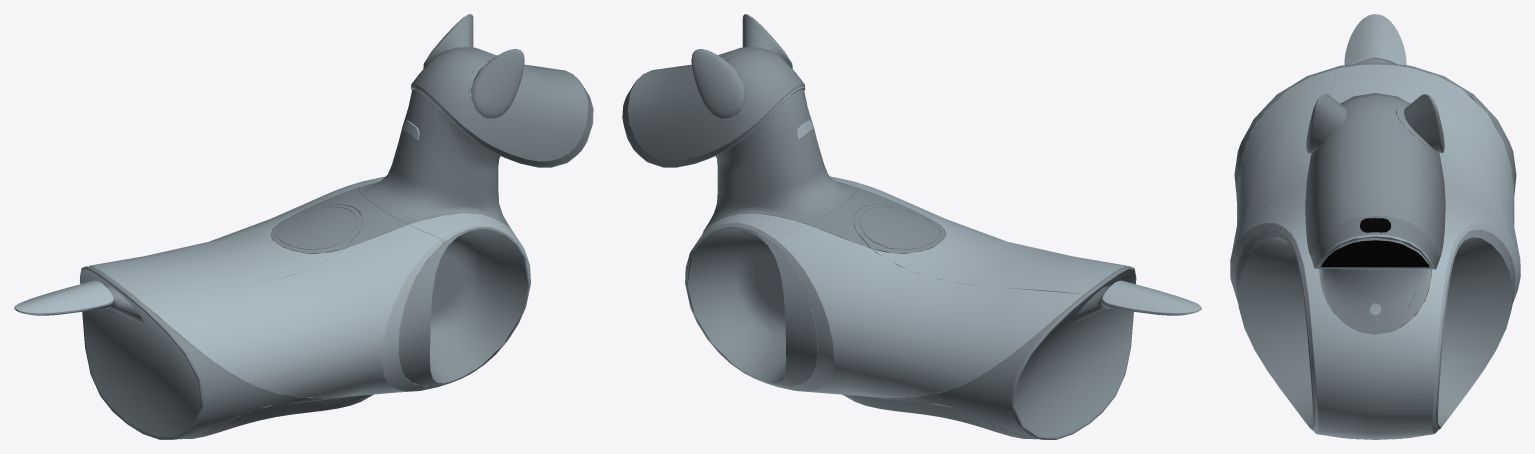
File: body.dae
3 views of the same model, side by side, from view 1: azimuth 30°, elevation 25°; view 2: azimuth 150°, elevation 25°; view 3: azimuth 270°, elevation 25° (orthographic). The views are drawn at different scales.
Visible parts, largest first — view 1: body; view 2: body; view 3: body.
Part boxes in pixels (box(x1,y1,x2,y2)): body: box(14, 14, 593, 439); body: box(622, 14, 1201, 439); body: box(1230, 14, 1520, 439).
Size of the model in its own units: 0.5185 by 0.1985 by 0.279.
